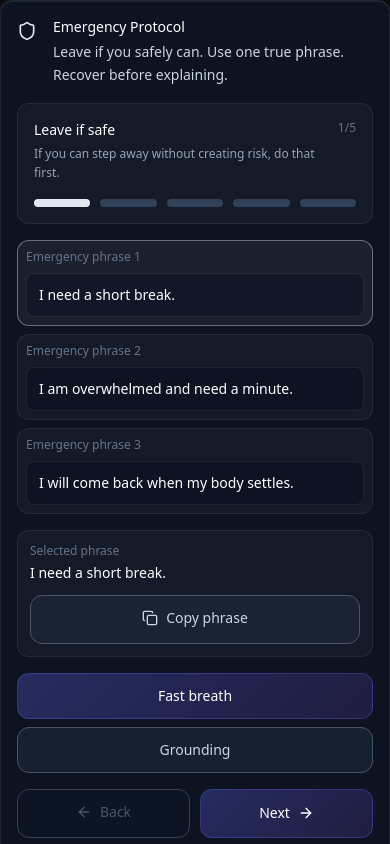
Test case: EmergencyProtocolPanel › advances through protocol steps
This screenshot has width=390, height=844.
Click the button "Next".
click(286, 813)  # box [200,788,373,838]
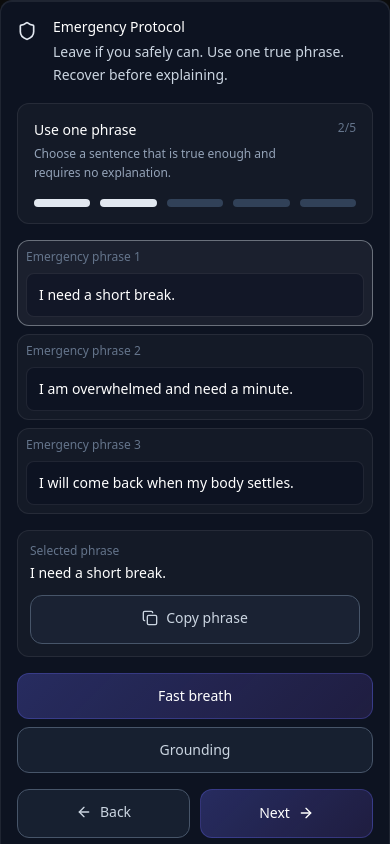
Check: the text "Use one phrase" is shown, box [34,120,136,138]
Check: the text "2/5" is shown, box [338,120,356,136]
